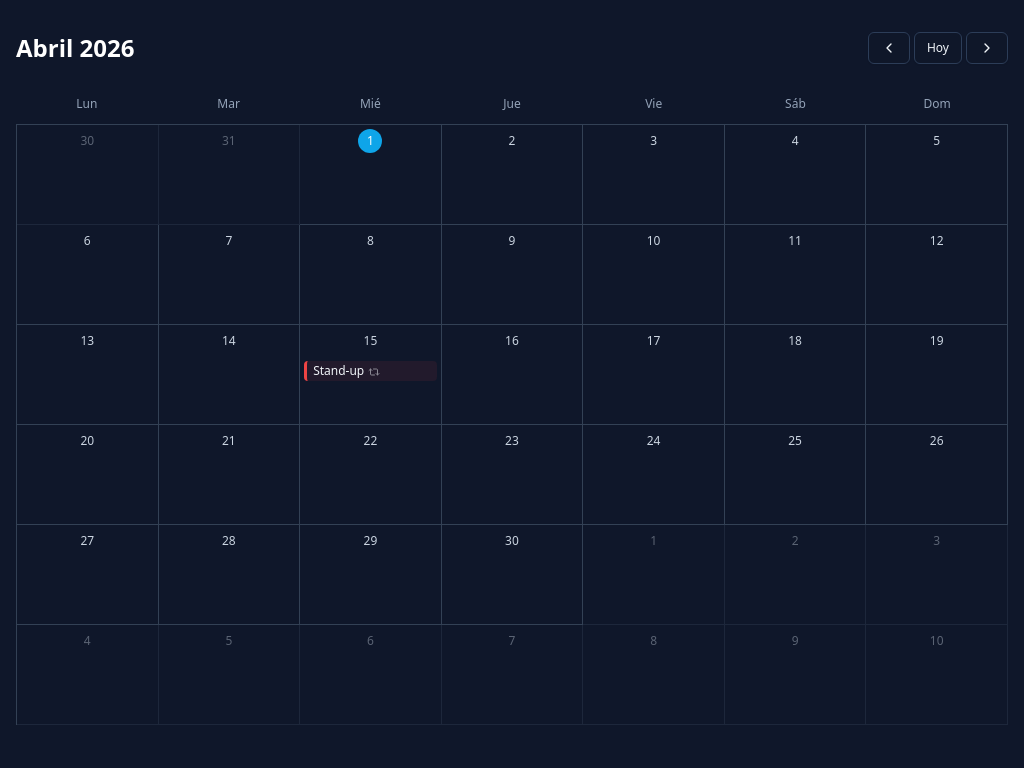
Scenario: CalendarPage — recurring event scope › deletes all recurring events via scope dialog
This screenshot has width=1024, height=768.
Expected: the text "Stand-up" is shown, left=313, top=362, right=364, bottom=379
Click the button "Stand-up".
click(370, 371)  # box left=304, top=361, right=437, bottom=381
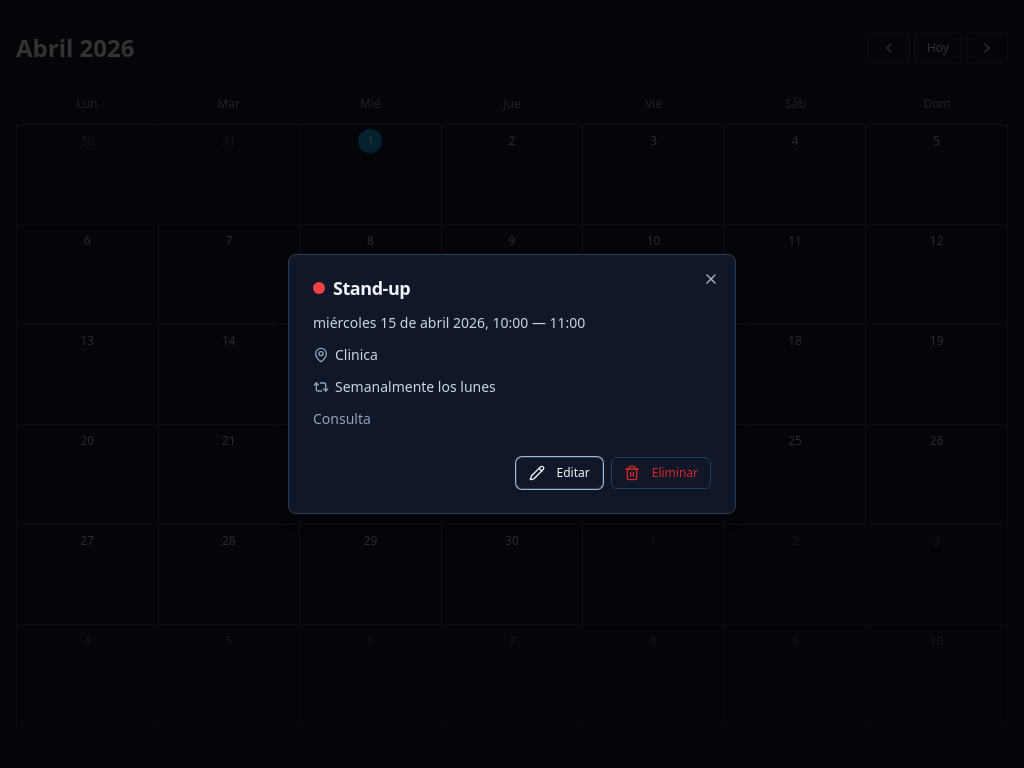
Expected: the button "Eliminar" is shown
Click the button "Eliminar".
click(661, 473)  # box left=611, top=457, right=711, bottom=489
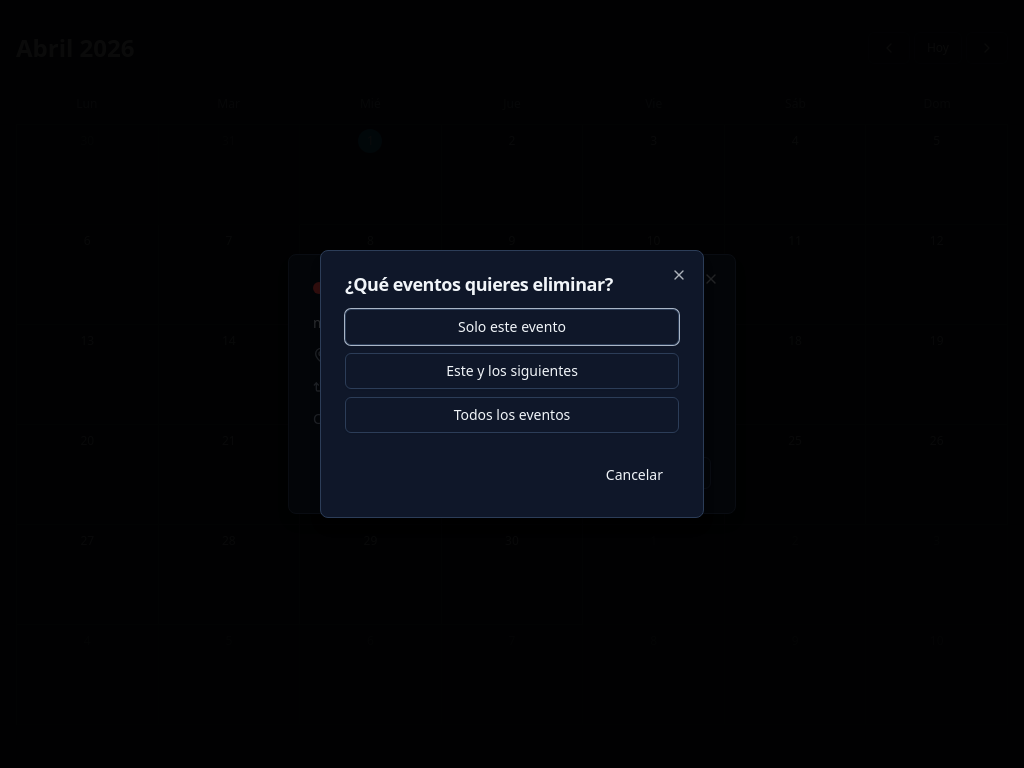
Expected: the button "Todos los eventos" is shown
Click the button "Todos los eventos".
click(512, 415)  # box left=345, top=397, right=679, bottom=433
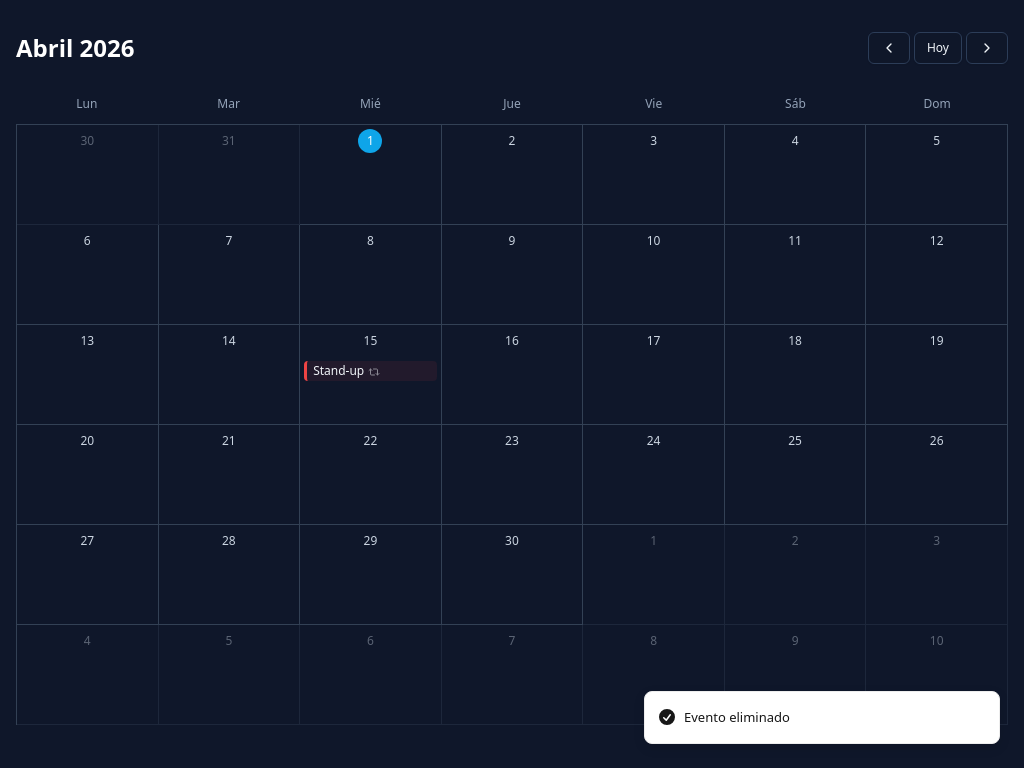
Expected: the heading "¿Qué eventos quieres eliminar?" is gone
